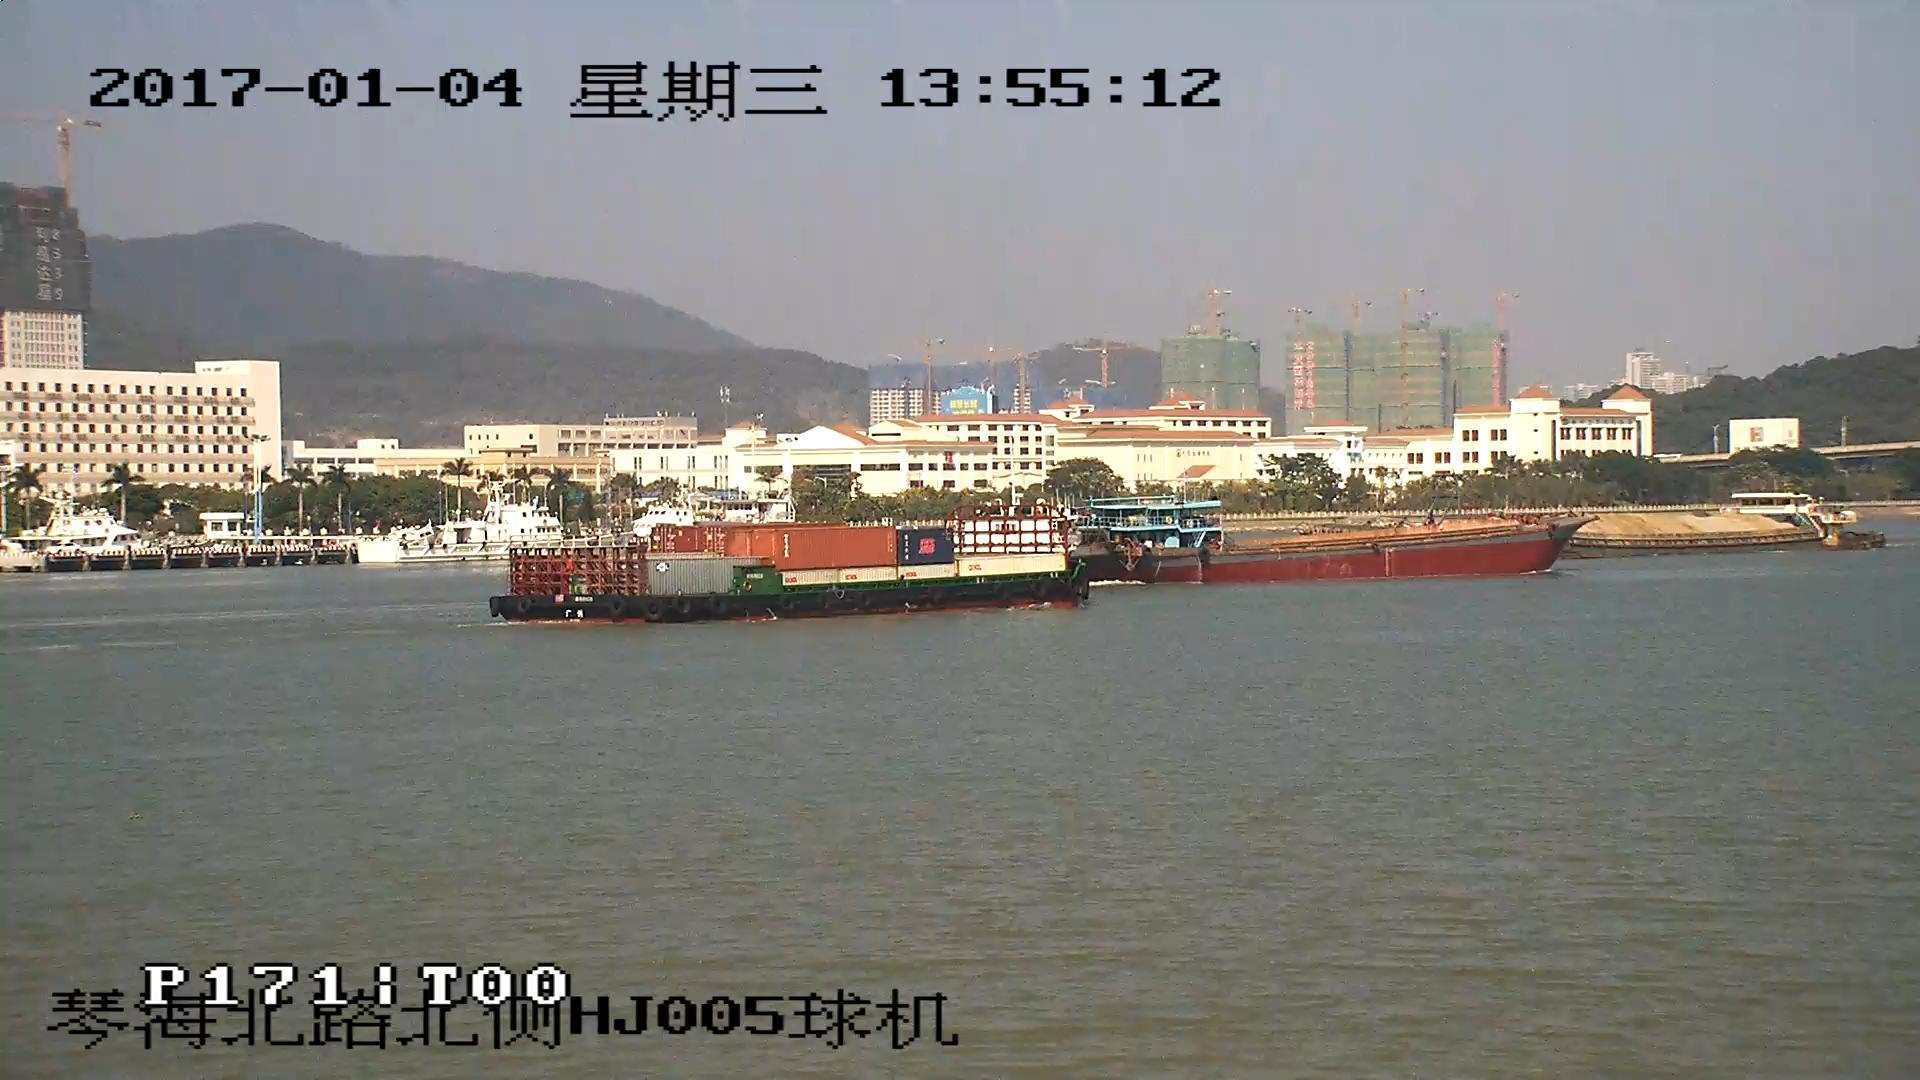Ship: (493, 516, 1101, 626), (1088, 516, 1590, 587), (1563, 492, 1880, 551)
